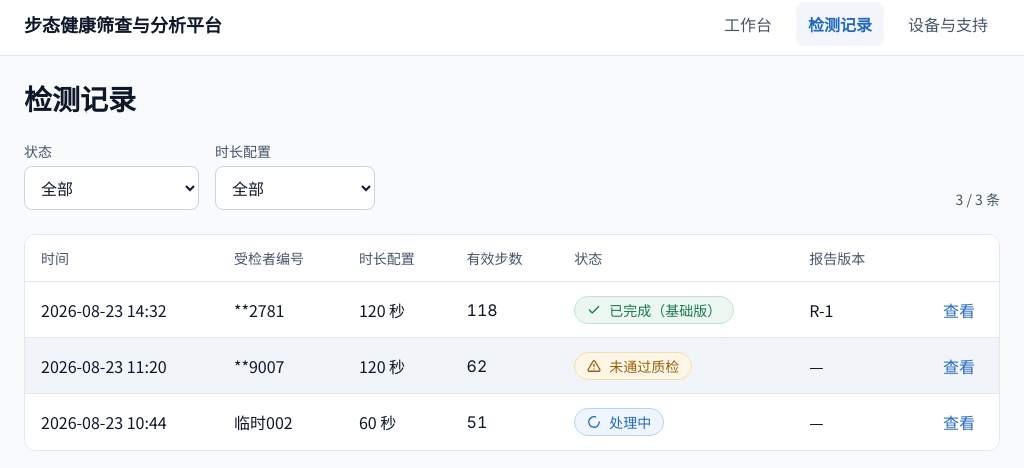
Test: P-10a — the records list › filters without hiding that it filtered
The image size is (1024, 468).
Select "未通过质检" in the dropdown labelled "状态" at point(112, 188), box top-left (24, 166), bottom-right (199, 210)
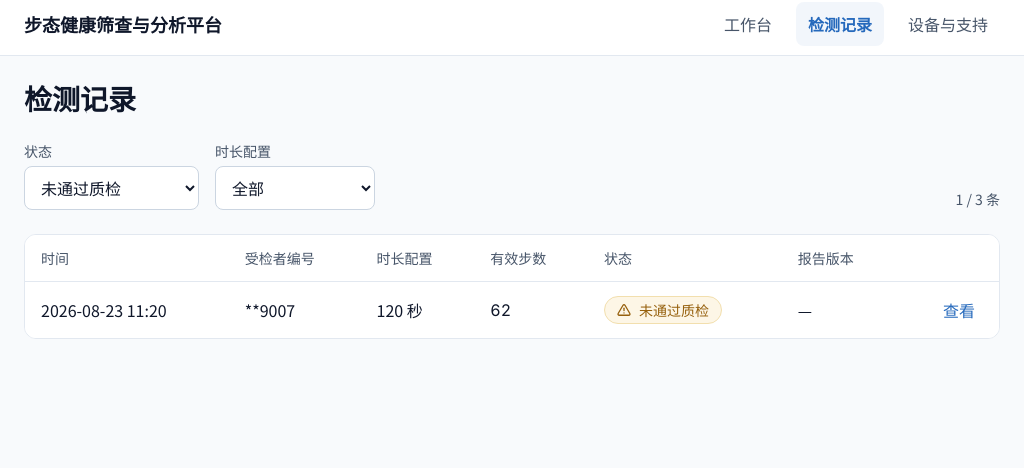
Expected: the text "1 / 3 条" is shown, top-left (956, 188), bottom-right (1000, 210)
